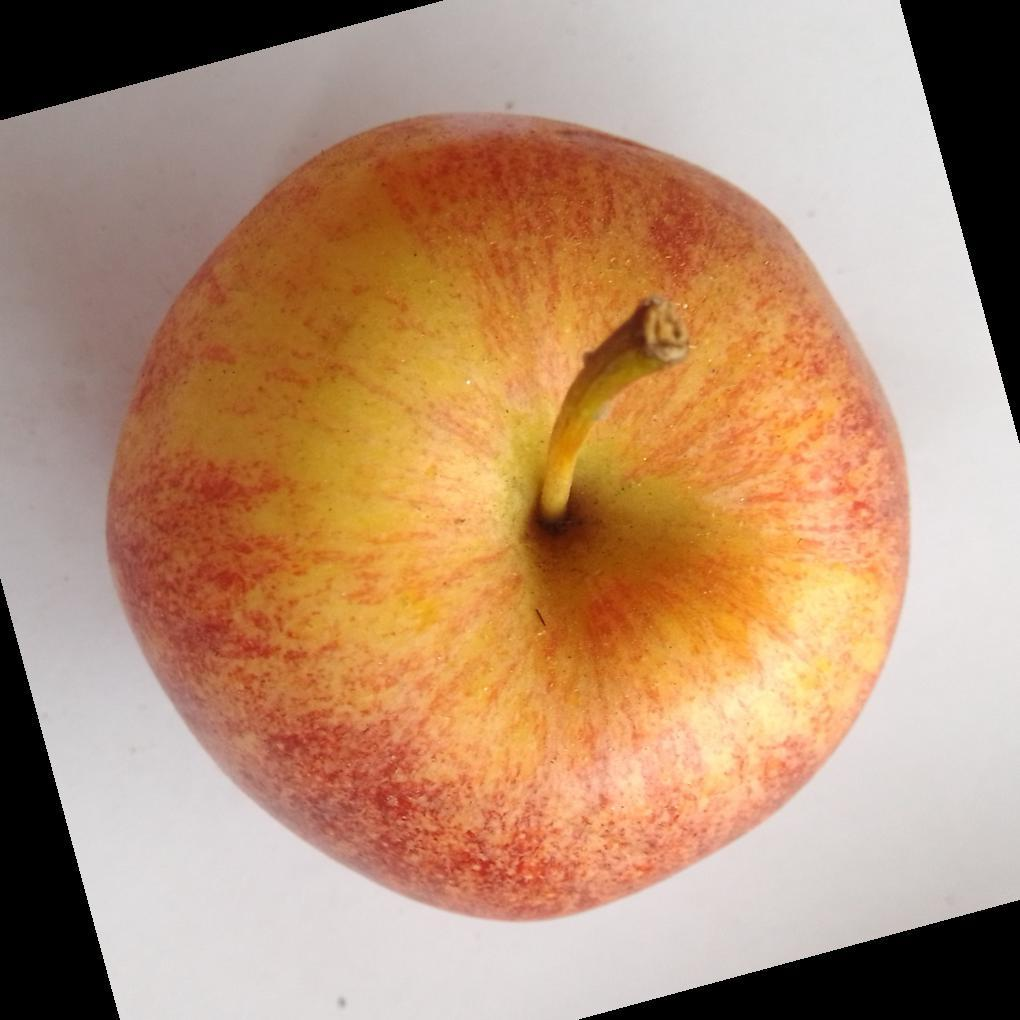FreshGuava: (103, 112, 912, 926)
